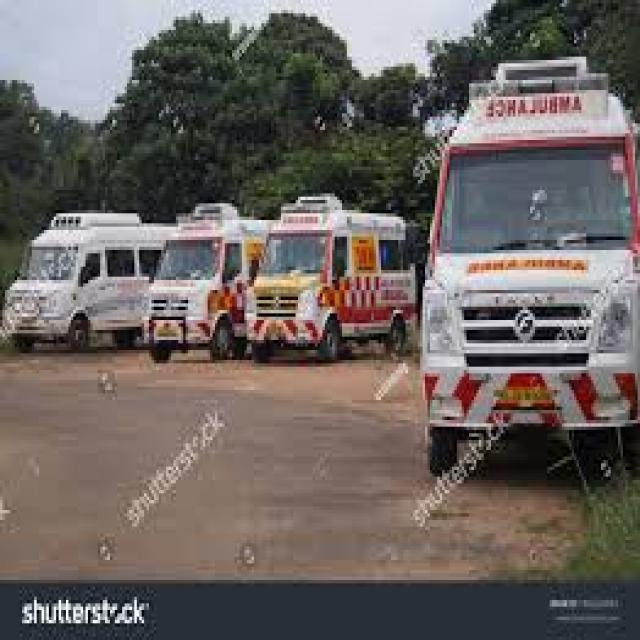ambulance: (418, 57, 640, 478), (244, 191, 417, 367), (0, 208, 149, 353), (146, 204, 247, 369)
